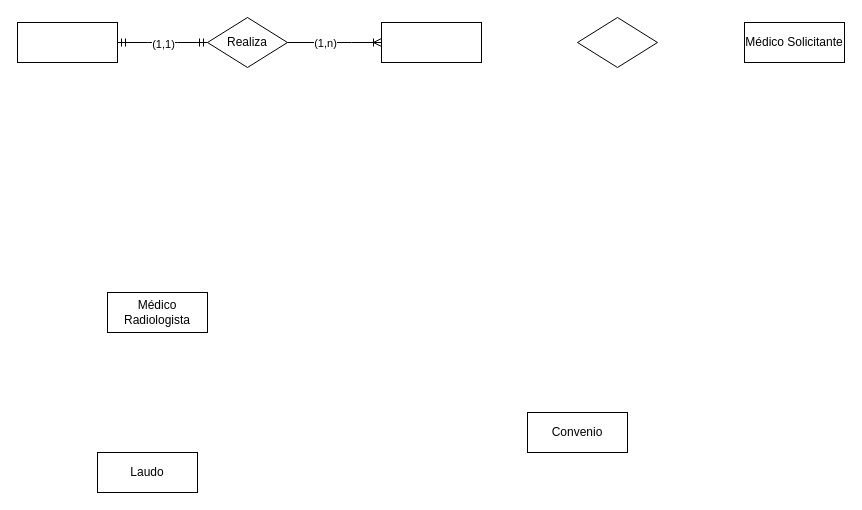
Image size: 862x510. Some labels were removed from this diagram. The shapes that lost their labels are listed below. From the top down, each one's centre as x and y in pixels, then its label:
the point at 67,42: Paciente
the point at 431,42: Exame
the point at 617,42: Solicita
